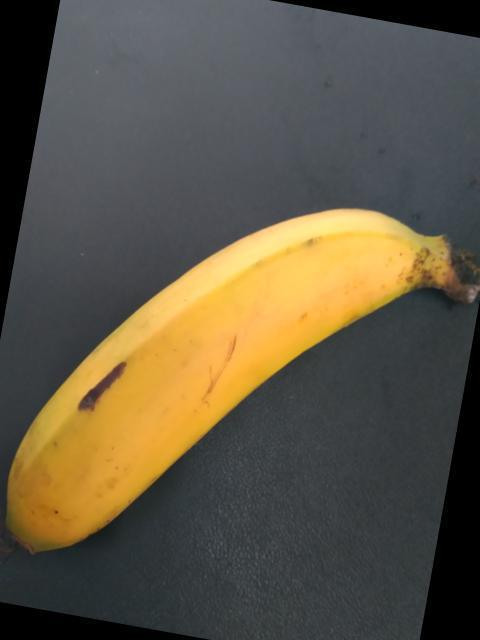freshripe: (7, 173, 436, 569)
